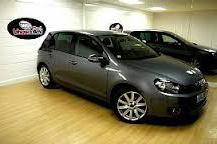Car: (21, 22, 214, 131), (110, 22, 217, 78)
